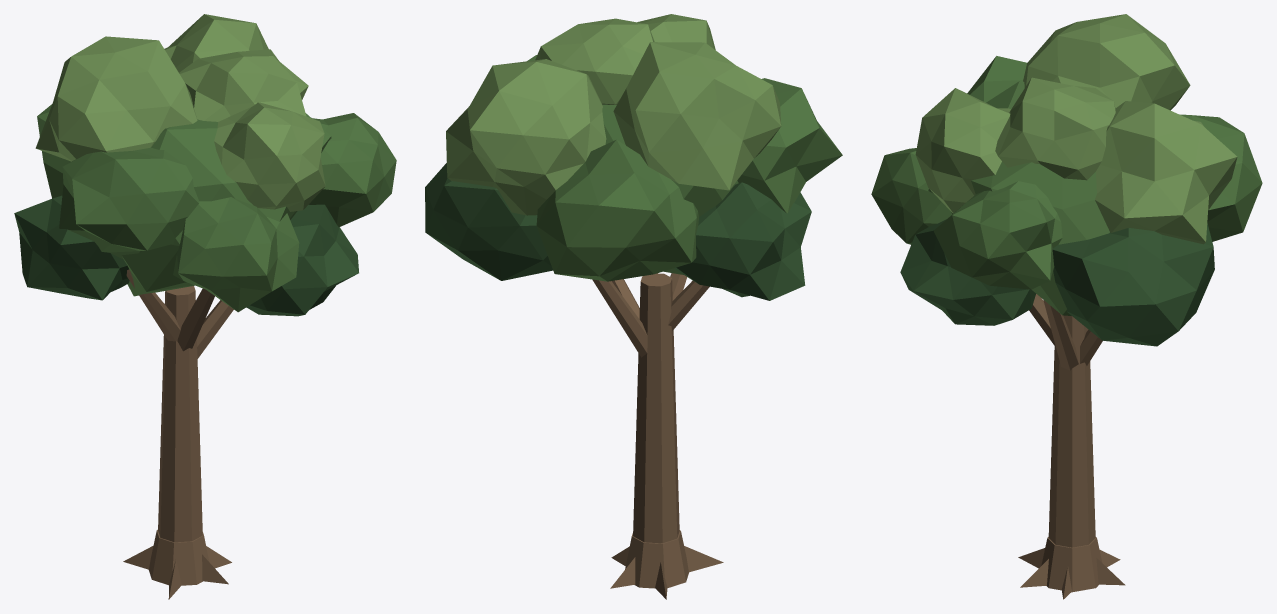
File: tree_broadleaf_01.glb
The picture shows the model from 3 angles, left to right: view 1: azimuth 30°, elevation 25°; view 2: azimuth 150°, elevation 25°; view 3: azimuth 270°, elevation 25°; orthographic projection. The views are drawn at different scales.
Visible parts, largest first — view 1: tree_broadleaf_01; view 2: tree_broadleaf_01; view 3: tree_broadleaf_01.
Part boxes in pixels (bbox=[...]): tree_broadleaf_01: bbox=[14, 14, 396, 599]; tree_broadleaf_01: bbox=[425, 14, 842, 599]; tree_broadleaf_01: bbox=[871, 14, 1262, 599].
Size of what is drawn, in the model's own units: 3.94 by 5.91 by 3.95.
1 material, 1 textured.
